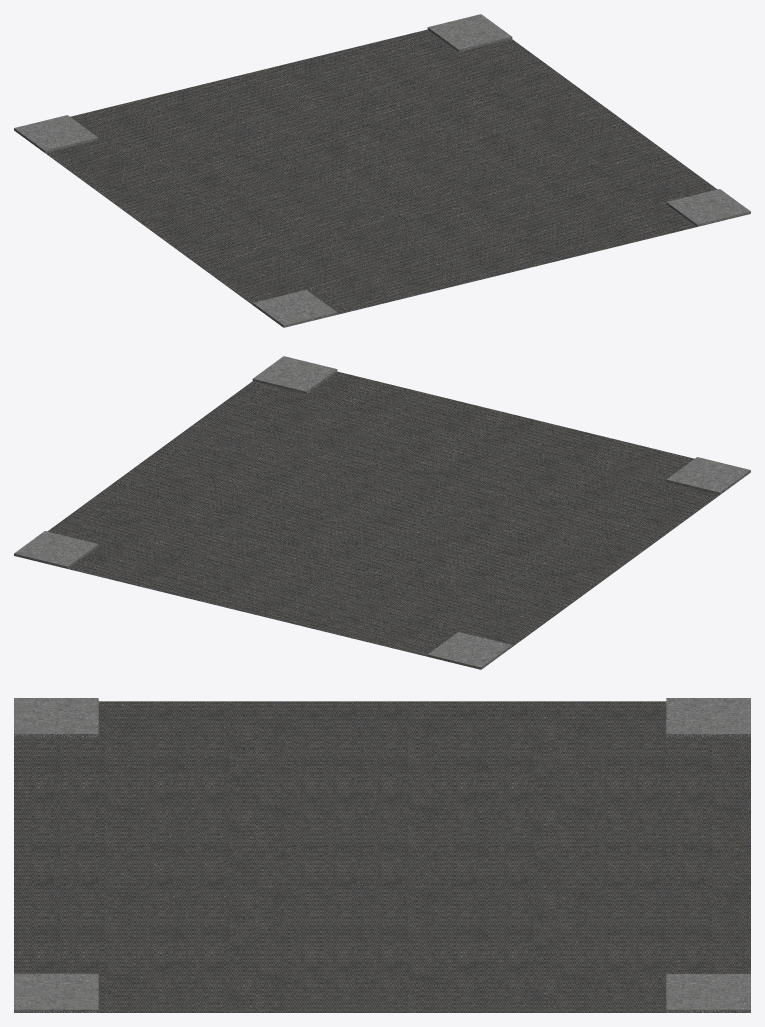
Rendered from Highway_Cross.glb.
The picture shows the model from 3 angles, top to bottom: view 1: azimuth 30°, elevation 25°; view 2: azimuth 150°, elevation 25°; view 3: azimuth 270°, elevation 25°; orthographic projection. The views are drawn at different scales.
Parts seen in each view (by area): view 1: Highway_Cross; view 2: Highway_Cross; view 3: Highway_Cross.
Boxes of the visible parts, <box> form: Highway_Cross: <box>14,14,750,327</box>; Highway_Cross: <box>14,356,750,669</box>; Highway_Cross: <box>14,698,750,1012</box>.
Bounding box in the file's own units: 24.29 × 0.1182 × 24.29.
2 materials, 2 textured.
